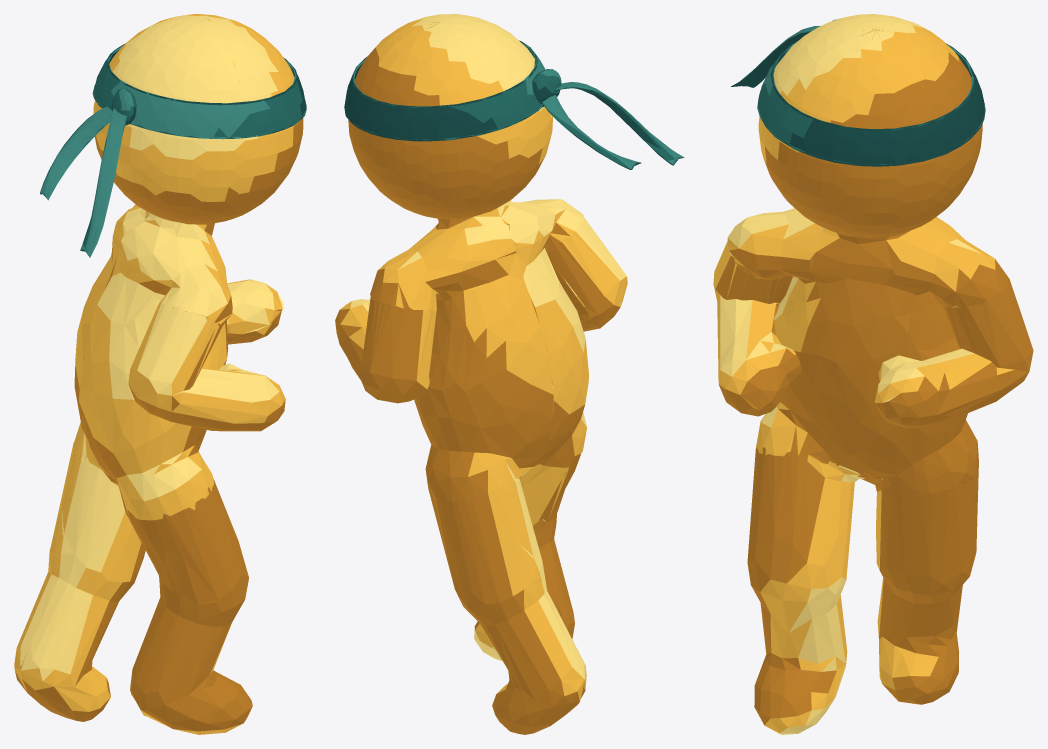
The model's file is Ninja_Jog4_R.gltf.
3 renders of one model, left to right at view 1: azimuth 30°, elevation 25°; view 2: azimuth 150°, elevation 25°; view 3: azimuth 270°, elevation 25°, orthographic. The views are drawn at different scales.
Visible parts, largest first — view 1: Ninja_Jog4_R_baked; view 2: Ninja_Jog4_R_baked; view 3: Ninja_Jog4_R_baked.
Boxes of the visible parts, x1,y1,x2,y2 form: Ninja_Jog4_R_baked: [14, 14, 306, 734]; Ninja_Jog4_R_baked: [335, 14, 684, 734]; Ninja_Jog4_R_baked: [713, 14, 1033, 734].
Size of the model in its own units: 0.4153 by 1 by 0.3983.
